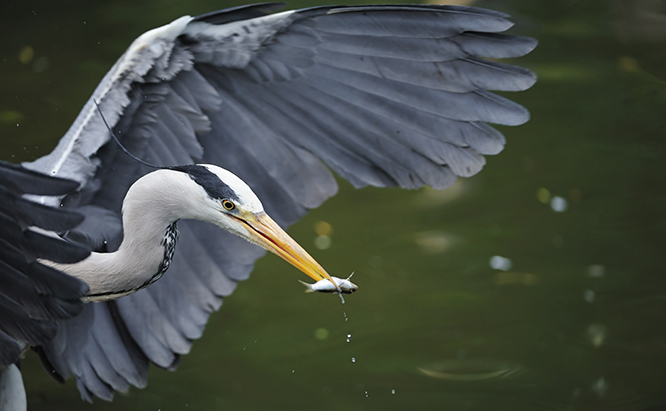heron: (1, 1, 546, 395)
